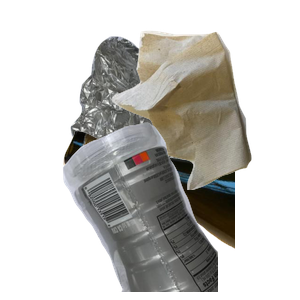glass: (60, 128, 300, 300)
metal: (68, 34, 300, 214)
plastic: (60, 120, 300, 300)
trash: (109, 28, 300, 208)
